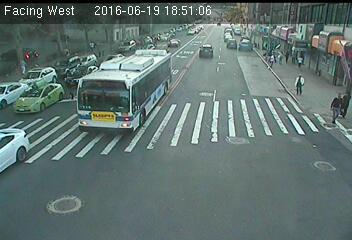neg: (196, 36, 213, 60), (331, 64, 345, 83), (247, 34, 260, 51), (229, 36, 239, 49), (264, 34, 274, 47), (142, 34, 150, 45)
pos: (324, 91, 349, 125), (291, 71, 309, 95), (339, 90, 351, 117), (62, 80, 77, 100), (293, 54, 306, 71), (29, 46, 42, 63), (275, 49, 287, 66), (19, 46, 31, 63), (283, 49, 295, 63), (88, 38, 96, 49)
